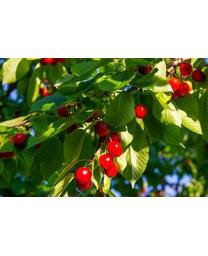cherry: (75, 168, 93, 185), (94, 120, 111, 138), (107, 139, 123, 157), (99, 153, 114, 169), (168, 75, 181, 93), (105, 162, 119, 178), (14, 133, 27, 149), (135, 104, 147, 118), (58, 105, 70, 118)
